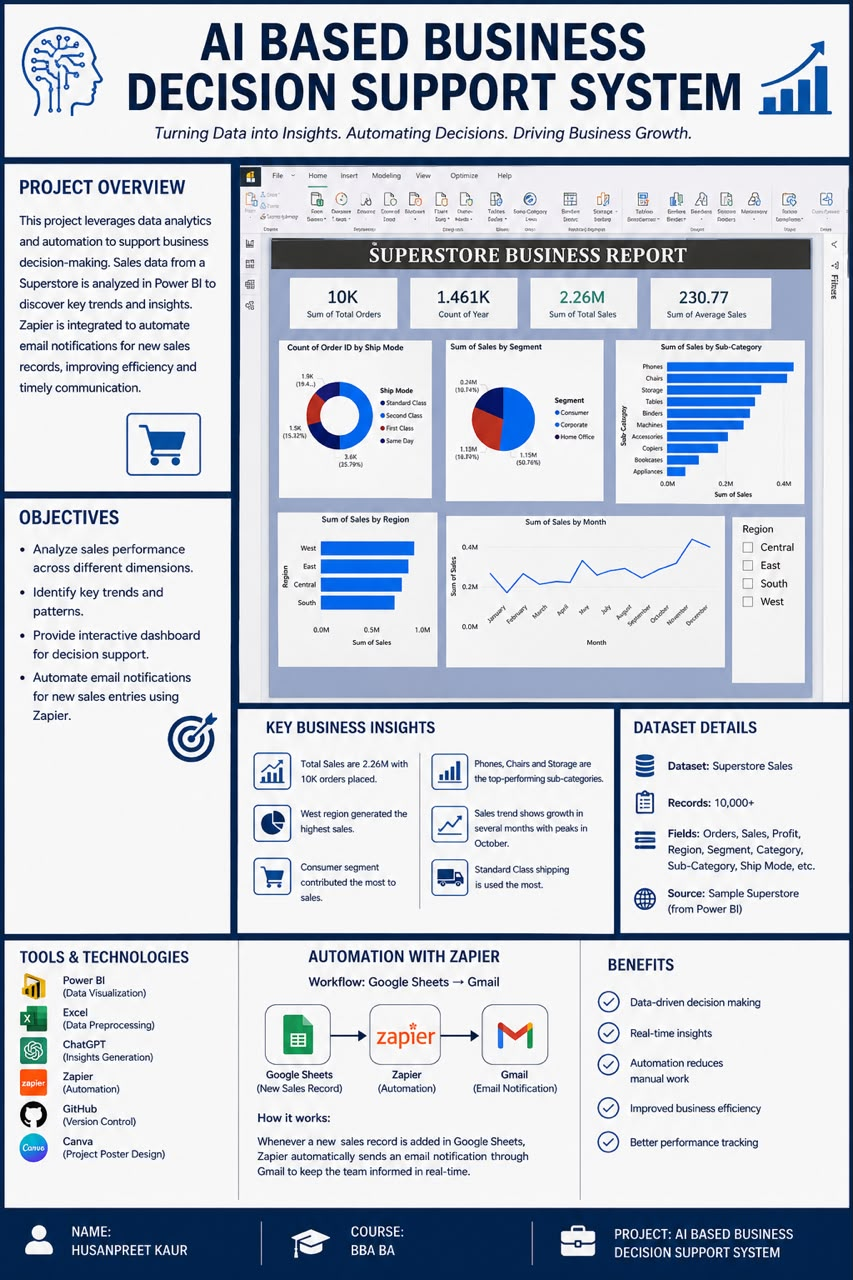

This screenshot's page, from the dashboard's own definition file:
{"tool":"powerbi","page":{"name":"Page 1","canvas":[1280,720],"ordinal":0},"visuals":[{"type":"cardVisual","fields":{"Data":["Sum(Superstore Sales.Total Orders)"]},"box":[24.3,95.3,249,113.8],"z":0},{"type":"cardVisual","fields":{"Data":["Sum(Superstore Sales.Total Sales)"]},"box":[562.2,96.3,224.7,111.9],"z":1000},{"type":"donutChart","fields":{"Category":["Superstore Sales.Ship Mode"],"Y":["CountNonNull(Superstore Sales.Order ID)"]},"box":[12.6,241.2,339.5,208.1],"z":2000},{"type":"pieChart","fields":{"Category":["Superstore Sales.Segment"],"Y":["Sum(Superstore Sales.Sales)"]},"box":[390,241.2,344.3,213],"z":3000},{"type":"clusteredBarChart","fields":{"Category":["Superstore Sales.Sub-Category"],"Y":["Sum(Superstore Sales.Sales)"]},"box":[786.9,241.2,458.1,227.6],"z":4000},{"type":"columnChart","fields":{"Category":["Superstore Sales.Sub-Category"],"Y":["Sum(Superstore Sales.Sales)"]},"box":[12.6,490.2,438.7,217.9],"z":5000},{"type":"barChart","fields":{"Y":["Sum(Superstore Sales.Sales)"],"Category":["Superstore Sales.Region"]},"box":[479.5,490.2,360.9,217.9],"z":6000},{"type":"textbox","box":[41.8,8.8,1203.2,63.2],"z":7000},{"type":"cardVisual","fields":{"Data":["CountNonNull(Superstore Sales.Order Date.Variation.Date Hierarchy.Year)"]},"box":[290.8,97.3,246.1,113.8],"z":8000},{"type":"slicer","fields":{"Values":["Superstore Sales.Region"]},"box":[1094.2,88.5,176,144],"z":9000},{"type":"cardVisual","fields":{"Data":["Sum(Superstore Sales.Average Sales)"]},"box":[809.2,98.2,246.1,109.9],"z":10000},{"type":"lineChart","fields":{"Category":["Superstore Sales.Order Date.Variation.Date Hierarchy.Month"],"Y":["Sum(Superstore Sales.Sales)"]},"box":[870.5,490.2,399.8,217.9],"z":11000},{"type":"image","box":[41.8,8.8,107,63.2],"z":12000},{"type":"image","box":[1099.1,8.8,171.2,63.2],"z":13000}]}

Visuals, with their boxes on the page's 1280x720 design canvas (x1, y1, x2, y2). These are canvas units, not pixel positions in the 853x1280 screenshot, which may show the page scaled, cropped or inside an application window:
cardVisual - Sum(Superstore Sales.Total Orders): bbox(24, 95, 273, 209)
cardVisual - Sum(Superstore Sales.Total Sales): bbox(562, 96, 787, 208)
donutChart - Superstore Sales.Ship Mode x CountNonNull(Superstore Sales.Order ID): bbox(13, 241, 352, 449)
pieChart - Superstore Sales.Segment x Sum(Superstore Sales.Sales): bbox(390, 241, 734, 454)
clusteredBarChart - Superstore Sales.Sub-Category x Sum(Superstore Sales.Sales): bbox(787, 241, 1245, 469)
columnChart - Superstore Sales.Sub-Category x Sum(Superstore Sales.Sales): bbox(13, 490, 451, 708)
barChart - Sum(Superstore Sales.Sales) x Superstore Sales.Region: bbox(480, 490, 840, 708)
textbox: bbox(42, 9, 1245, 72)
cardVisual - CountNonNull(Superstore Sales.Order Date.Variation.Date Hierarchy.Year): bbox(291, 97, 537, 211)
slicer - Superstore Sales.Region: bbox(1094, 88, 1270, 232)
cardVisual - Sum(Superstore Sales.Average Sales): bbox(809, 98, 1055, 208)
lineChart - Superstore Sales.Order Date.Variation.Date Hierarchy.Month x Sum(Superstore Sales.Sales): bbox(870, 490, 1270, 708)
image: bbox(42, 9, 149, 72)
image: bbox(1099, 9, 1270, 72)
